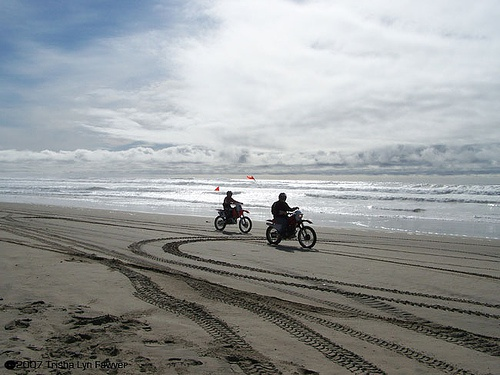non-vehicle: (265, 208, 316, 248), (213, 202, 252, 233)
